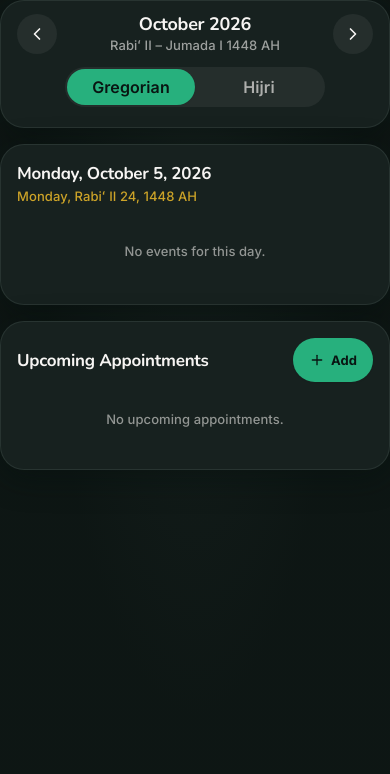
Test: EventsCalendar UI -> storage + reschedule › an empty title / a past time is explained INSIDE the form and nothing is saved
Click the button with test id "add-event" at (333, 360), box 293,338 -> 373,382
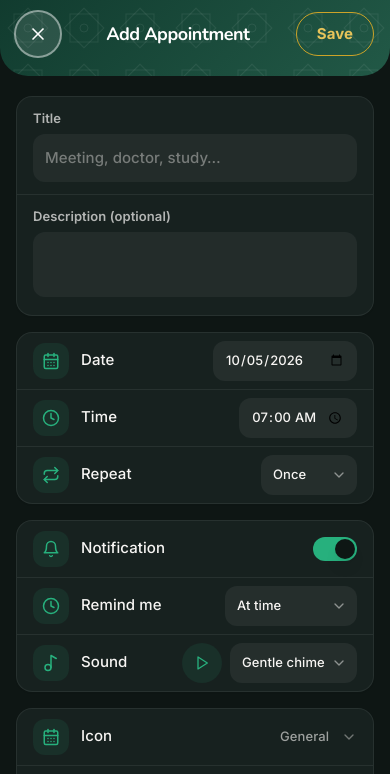
Check: the field with test id "event-title" is shown, box 33,134 -> 357,182
Click the button with test id "event-save" at (335, 34), box 296,12 -> 374,56
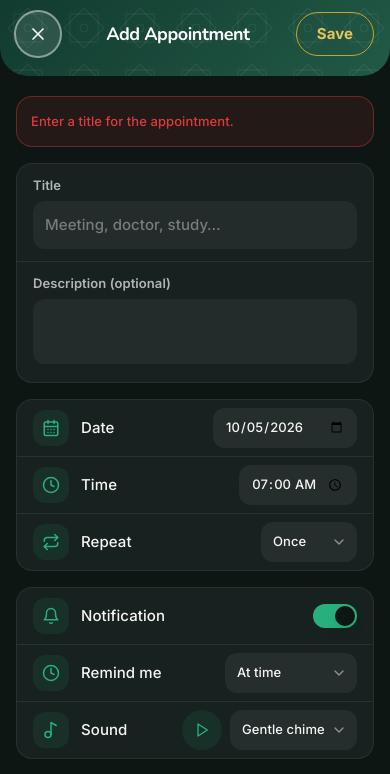
Check: the message with test id "event-error" shows "title", box 31,113 -> 234,129
Type "Past" into the field with test id "event-title" at (195, 225), box 33,201 -> 357,249
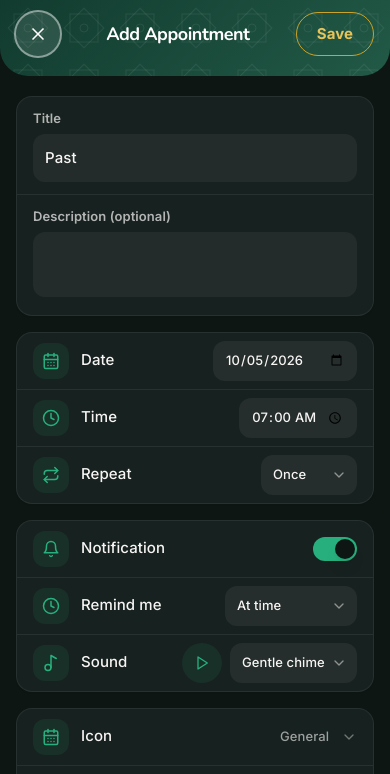
Type "2020-01-01" into the date field with id "ev-date" at (285, 361), box 213,341 -> 357,381
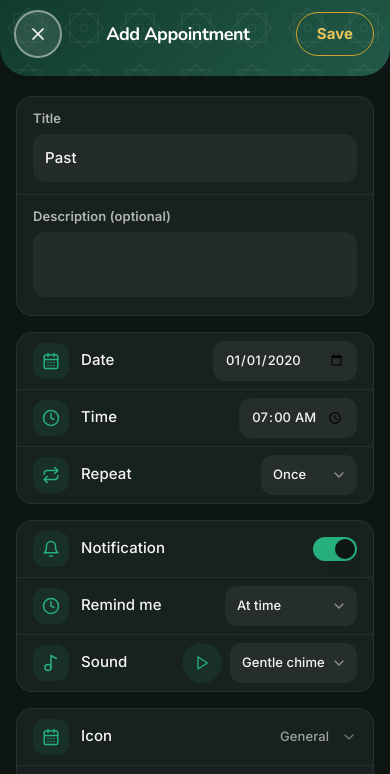
Click the button with test id "event-save" at (335, 34), box 296,12 -> 374,56
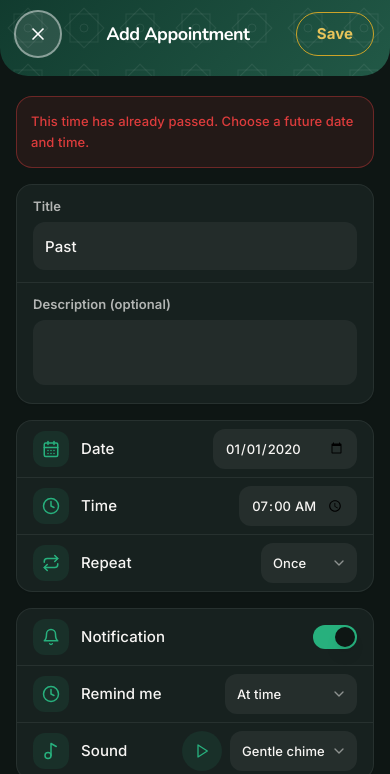
Check: the message with test id "event-error" shows "passed", box 31,113 -> 354,150
